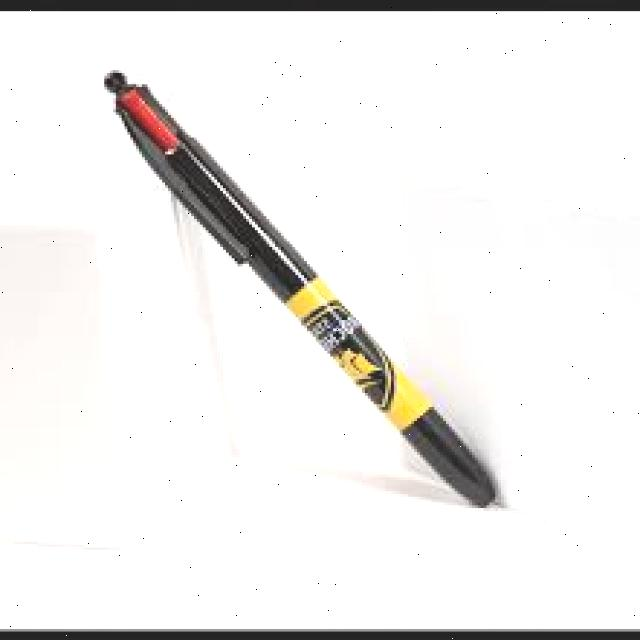pen: (104, 64, 504, 508)
